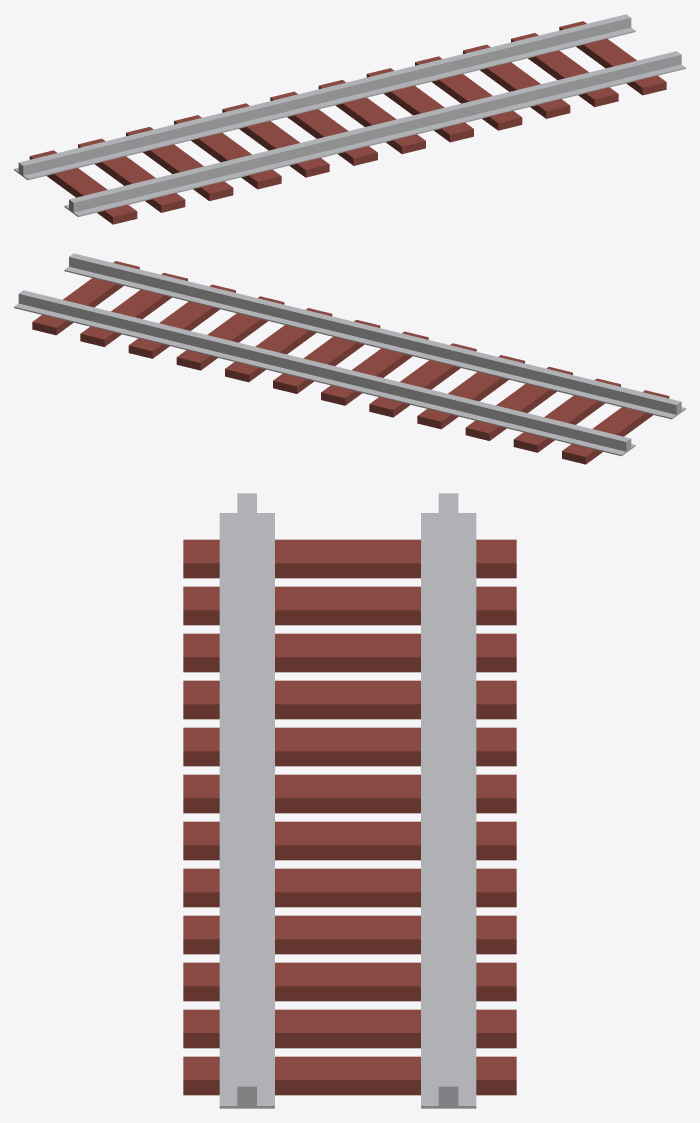
File: train route.fbx
The picture shows the model from 3 angles, top to bottom: view 1: azimuth 30°, elevation 25°; view 2: azimuth 150°, elevation 25°; view 3: azimuth 270°, elevation 25°; orthographic projection. The views are drawn at different scales.
Visible parts, largest first — view 1: Cube.006; view 2: Cube.006; view 3: Cube.006.
Boxes of the visible parts, <box> form: Cube.006: <box>14,14,685,224</box>; Cube.006: <box>14,253,685,464</box>; Cube.006: <box>183,493,516,1108</box>.
Size of the model in its own units: 1010 by 28.82 by 240.
